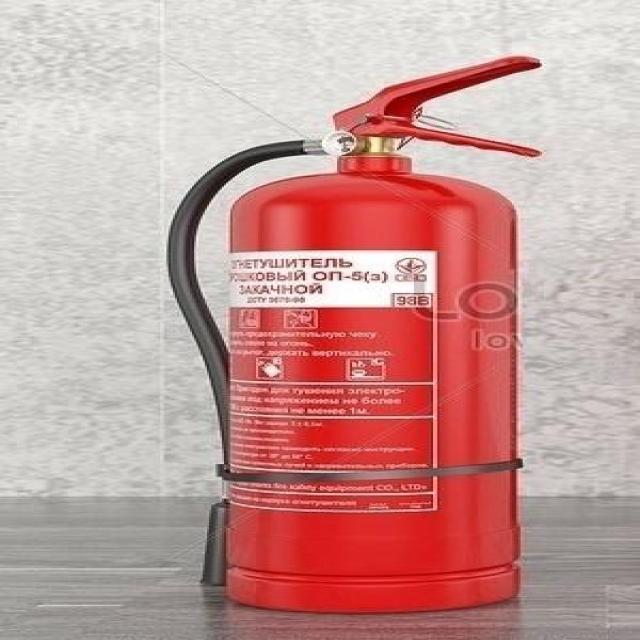fire_extinguisher: (156, 49, 548, 616)
